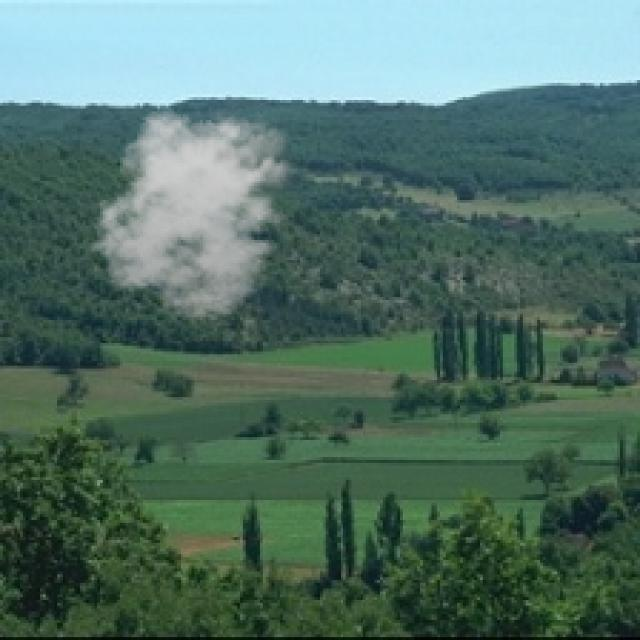Smoke: (88, 103, 303, 320)
